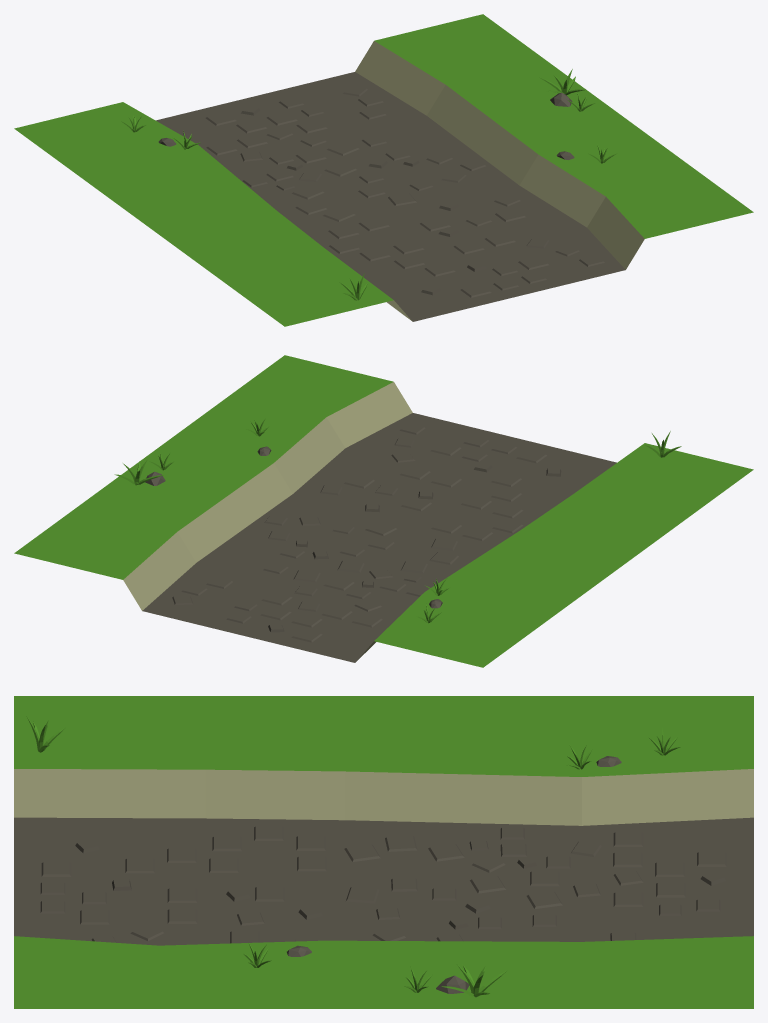
File: RoadStraight_B.fbx
3 views of the same model, one above another, from view 1: azimuth 30°, elevation 25°; view 2: azimuth 150°, elevation 25°; view 3: azimuth 270°, elevation 25° (orthographic). The views are drawn at different scales.
Visible parts, largest first — view 1: RoadStraight_B; view 2: RoadStraight_B; view 3: RoadStraight_B.
Part boxes in pixels (box(x1,y1,x2,y2)): RoadStraight_B: box(14, 14, 753, 326); RoadStraight_B: box(14, 355, 753, 667); RoadStraight_B: box(14, 696, 753, 1008).
Bounding box in the file's own units: 500 × 53.21 × 500.
